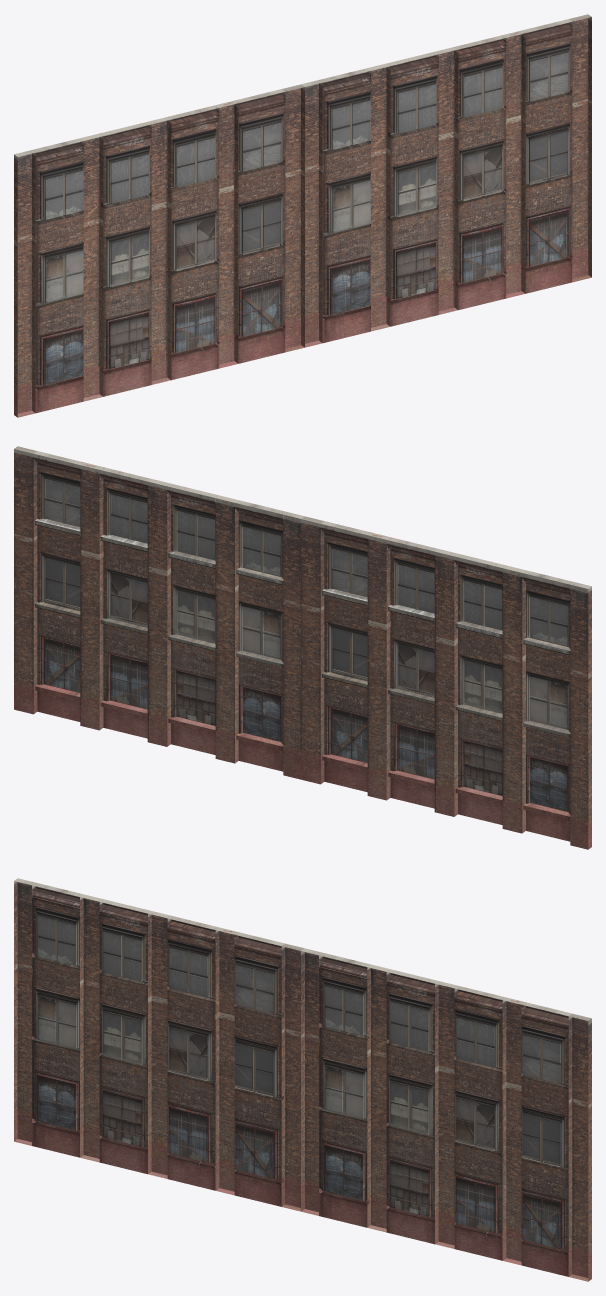
Rendered from fachada_1.fbx.
3 views of the same model, one above another, from view 1: azimuth 30°, elevation 25°; view 2: azimuth 150°, elevation 25°; view 3: azimuth 330°, elevation 25° (orthographic).
Visible parts, largest first — view 1: fachada; view 2: fachada; view 3: fachada.
Part boxes in pixels (bbox=[...]): fachada: bbox=[14, 14, 591, 417]; fachada: bbox=[14, 446, 591, 849]; fachada: bbox=[14, 878, 591, 1281].
Bounding box in the file's own units: 231 × 100 × 4.02.
